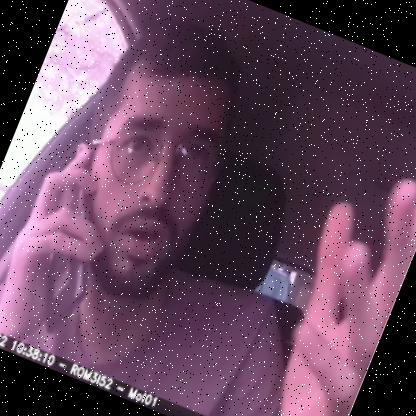phone: (0, 151, 136, 349)
